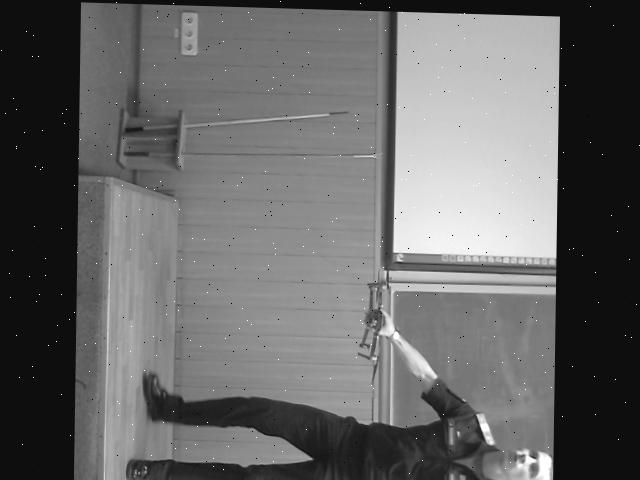drone: (355, 267, 402, 383)
